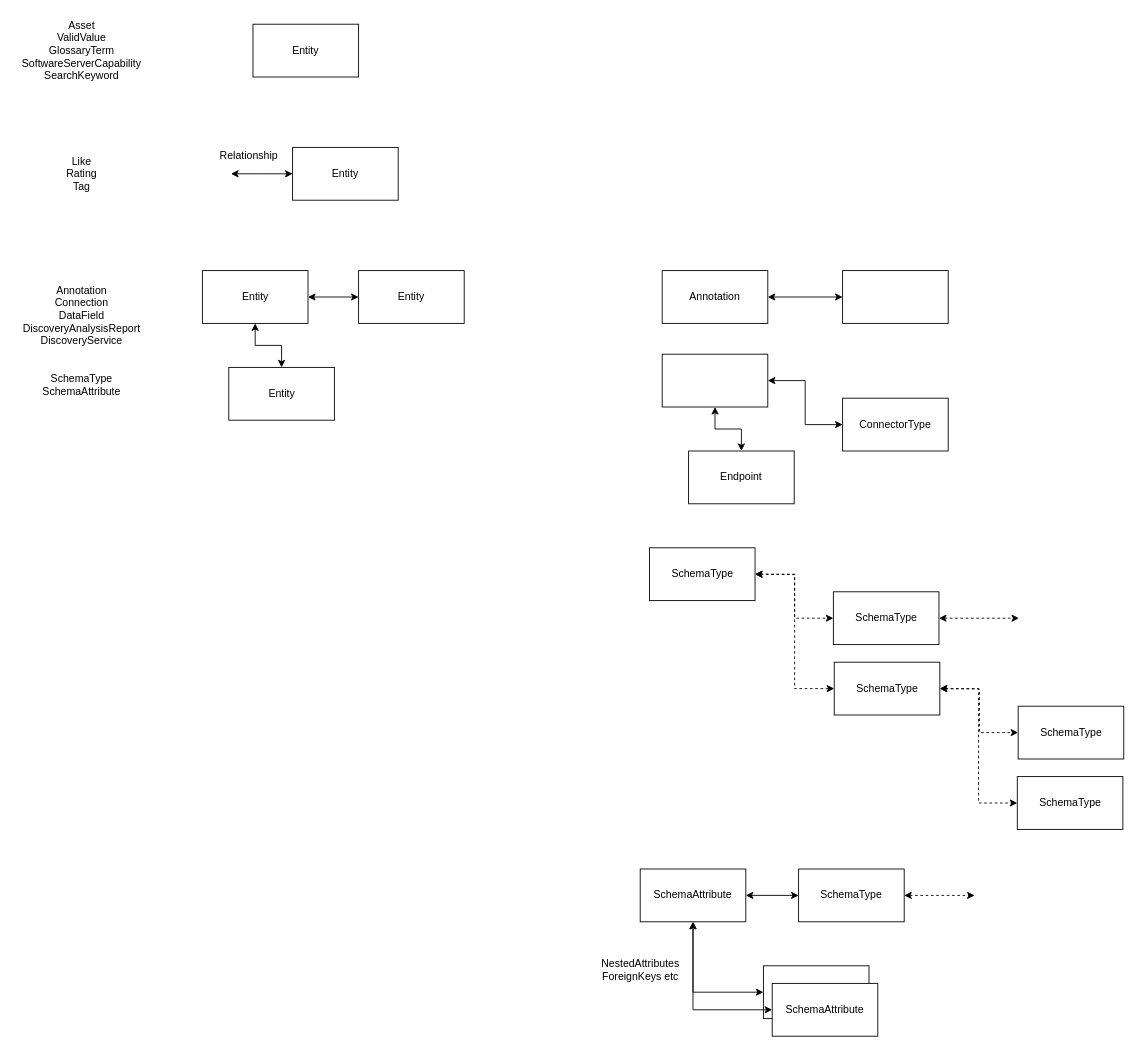
This 1139x1052 diagram has some shape labels left out. Each missing label, with the box of its shape:
AnnotationReview: (842, 270, 948, 323)
Connection: (661, 353, 768, 407)
